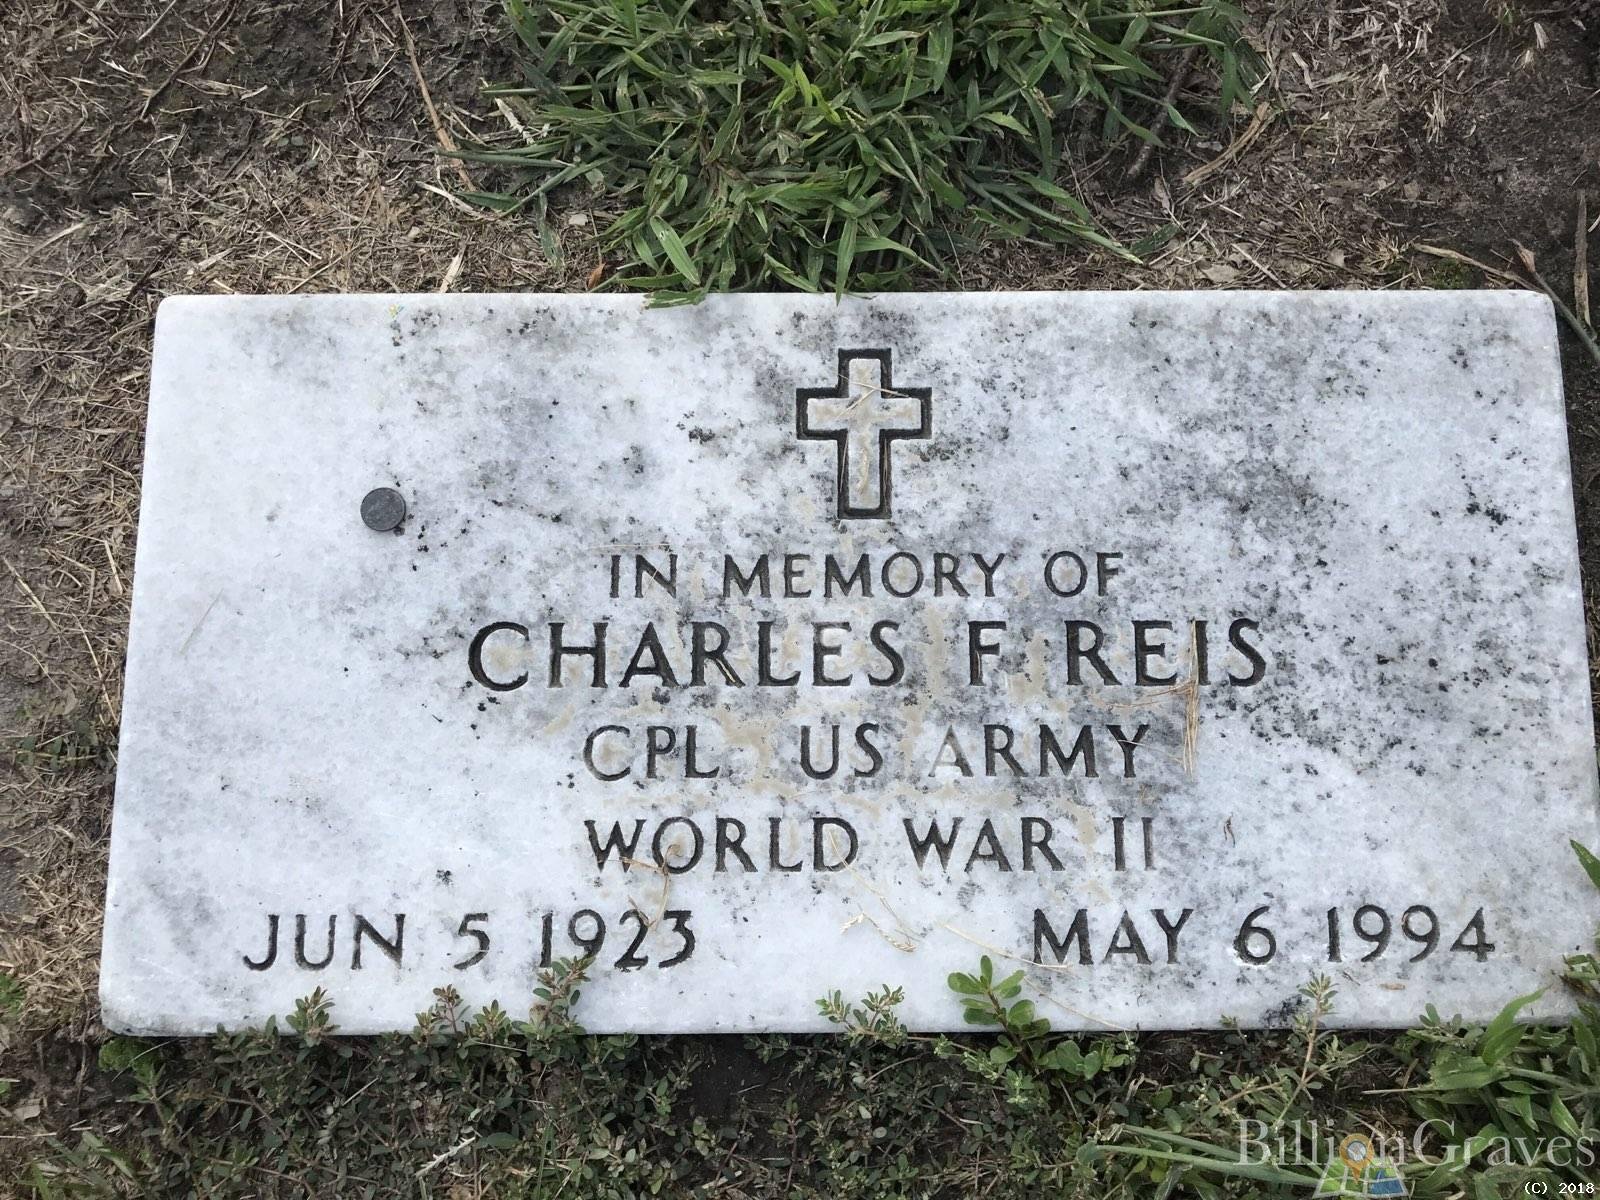flat: (100, 267, 1597, 1039)
